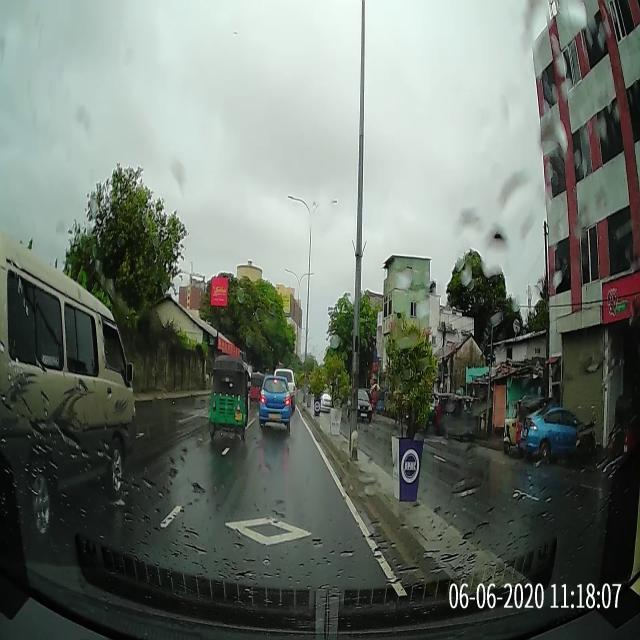diamond: (151, 475, 397, 574)
